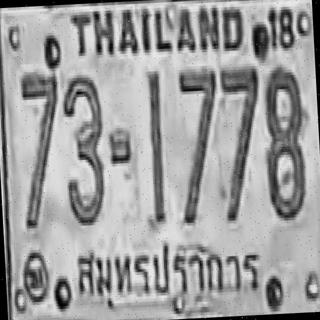N01: (144, 70, 166, 224)
N03: (61, 72, 108, 226)
N07: (17, 70, 64, 230), (176, 65, 223, 223), (217, 64, 264, 220)
N08: (260, 64, 310, 219)
P57: (71, 233, 264, 303)
